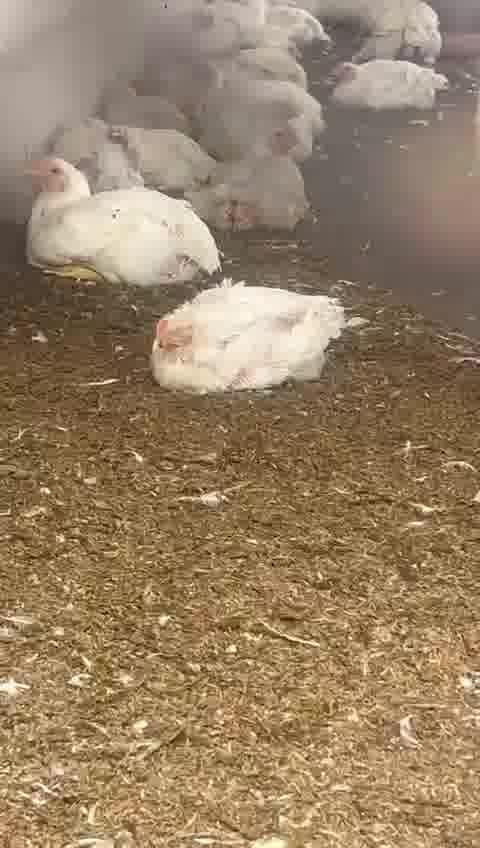AbNormal: (150, 290, 339, 394), (200, 124, 314, 232), (330, 60, 454, 113)
Normal: (17, 150, 220, 288)
